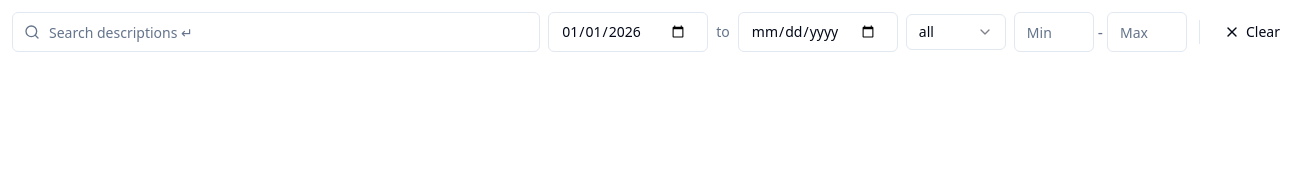
TransactionFilterBar › discards pending search and amount drafts when all filters are cleared
The width and height of the screenshot is (1304, 172).
Type "unsubmitted" into the field with placeholder "Search descriptions ↵" at (276, 32), box top-left (12, 12), bottom-right (540, 52)
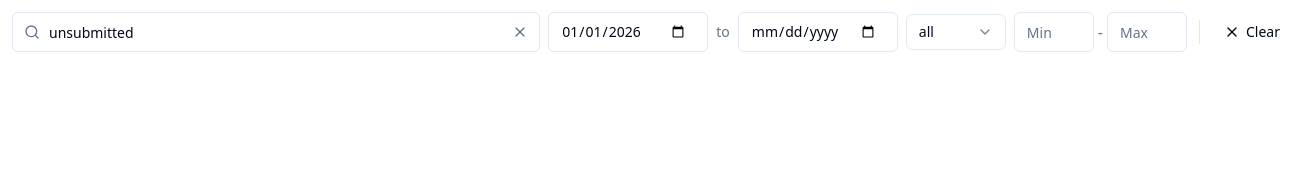
Type "15" into the number field named "Minimum amount" at (1054, 32), box top-left (1014, 12), bottom-right (1094, 52)
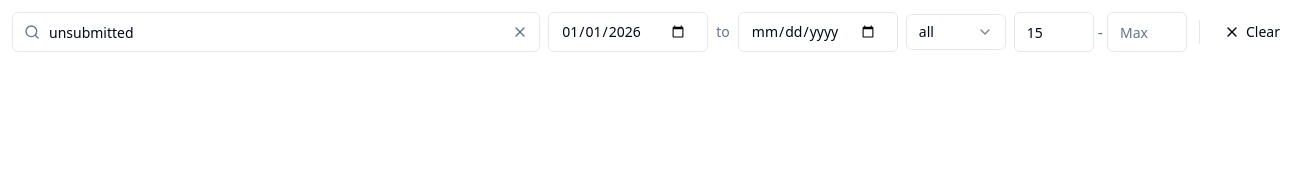
Click the button "Clear" at (1252, 32), box top-left (1212, 14), bottom-right (1292, 50)
Wait 800 ms
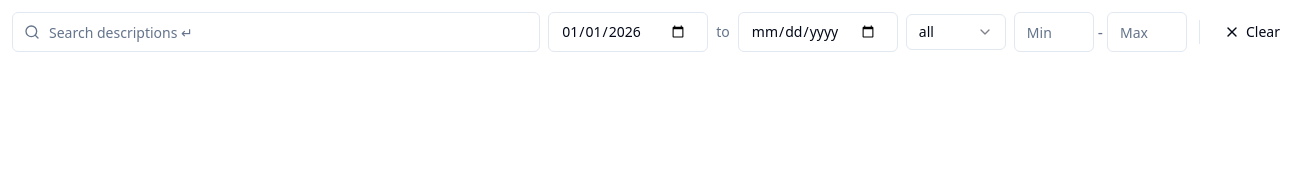
Check: the number field named "Maximum amount" is not empty, box top-left (1107, 12), bottom-right (1187, 52)
Check: the field with placeholder "Search descriptions ↵" is empty, box top-left (12, 12), bottom-right (540, 52)
Check: the number field named "Minimum amount" is not empty, box top-left (1014, 12), bottom-right (1094, 52)
